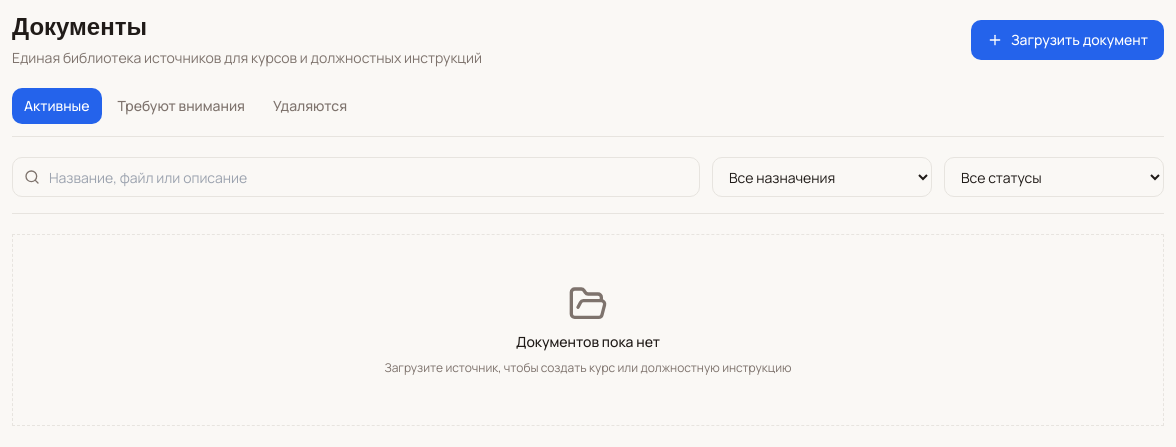
Test case: document library empty-state intent › distinguishes a search miss and resets both the query and catalog view
Expected: the text "Документов пока нет" is shown, [516,332,660,352]
Type "nonexistent synthetic source" into the field named "Поиск документов" at x=356, y=177, box [12,157,700,197]
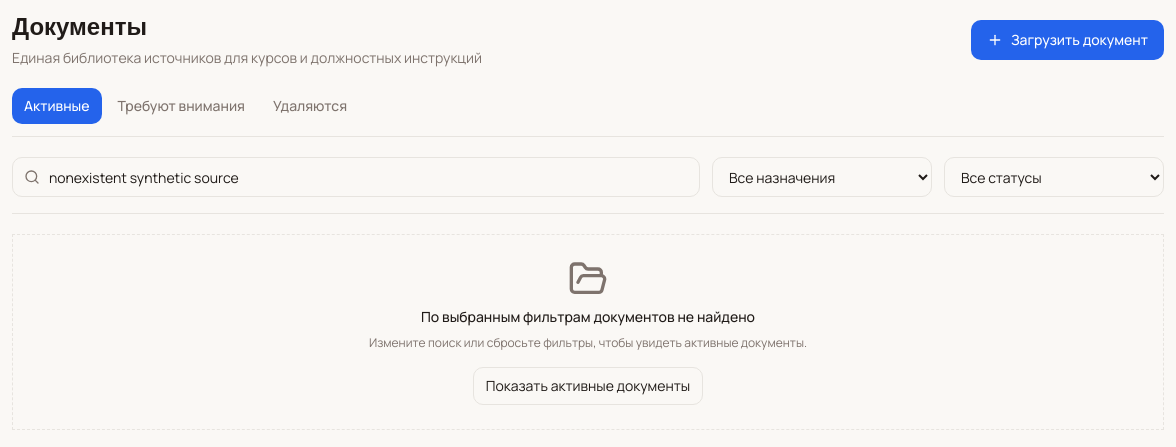
Result: the text "По выбранным фильтрам документов не найдено" is shown at [421,307,755,327]
Click the button "Показать активные документы" at x=588, y=386, box [473,367,703,405]
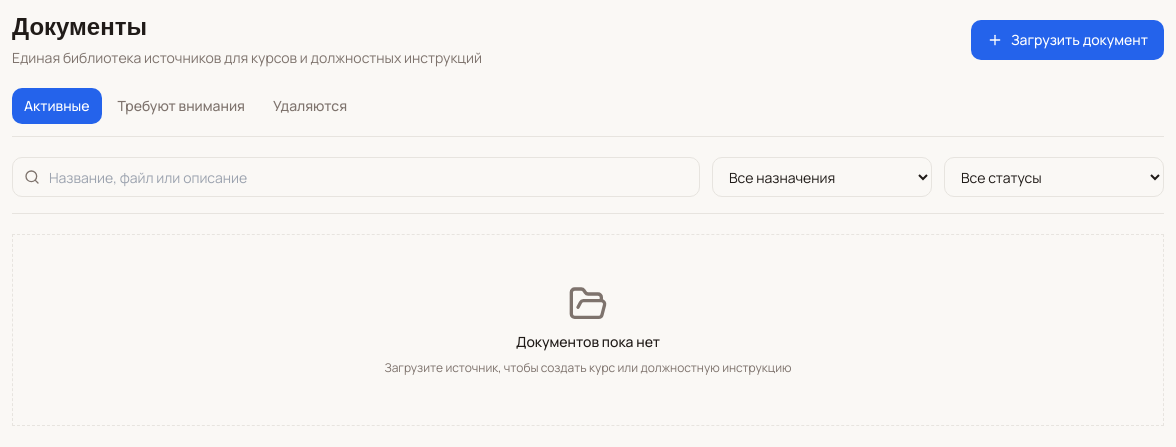
Result: the field named "Поиск документов" is empty at [12,157,700,197]
Result: the text "Документов пока нет" is shown at [516,332,660,352]
